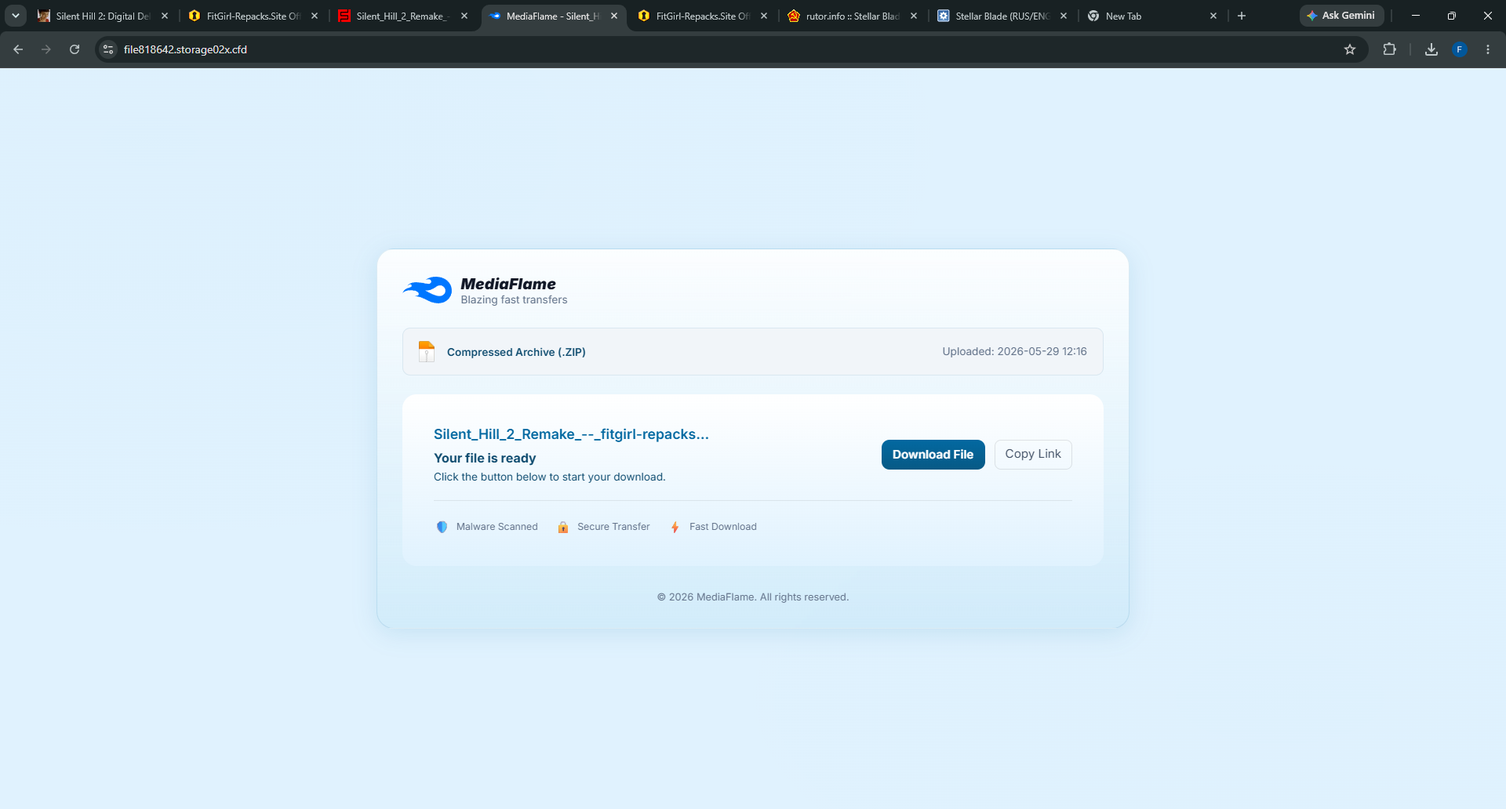fake_button: (868, 433, 995, 485)
